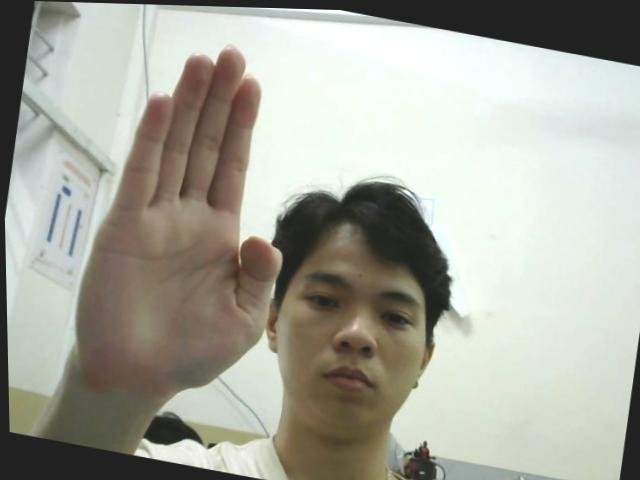B: (57, 21, 314, 410)
